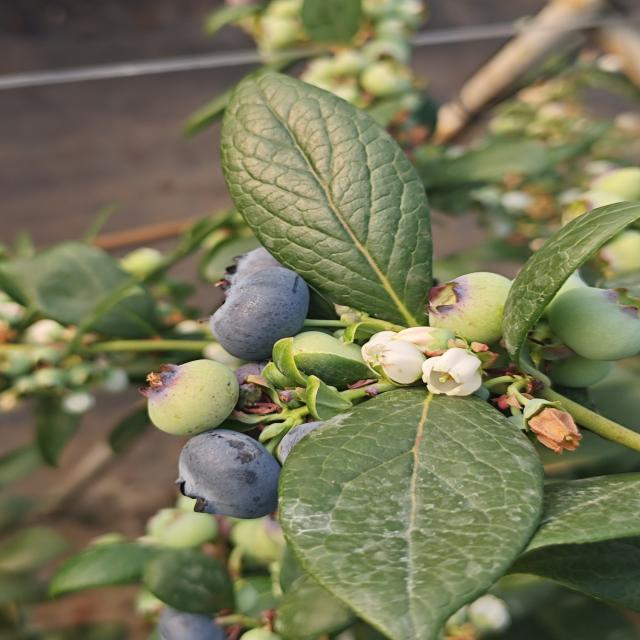ripe: (172, 428, 284, 521), (206, 265, 312, 362), (222, 241, 312, 292), (157, 600, 229, 640), (272, 421, 330, 462), (232, 362, 288, 400)
